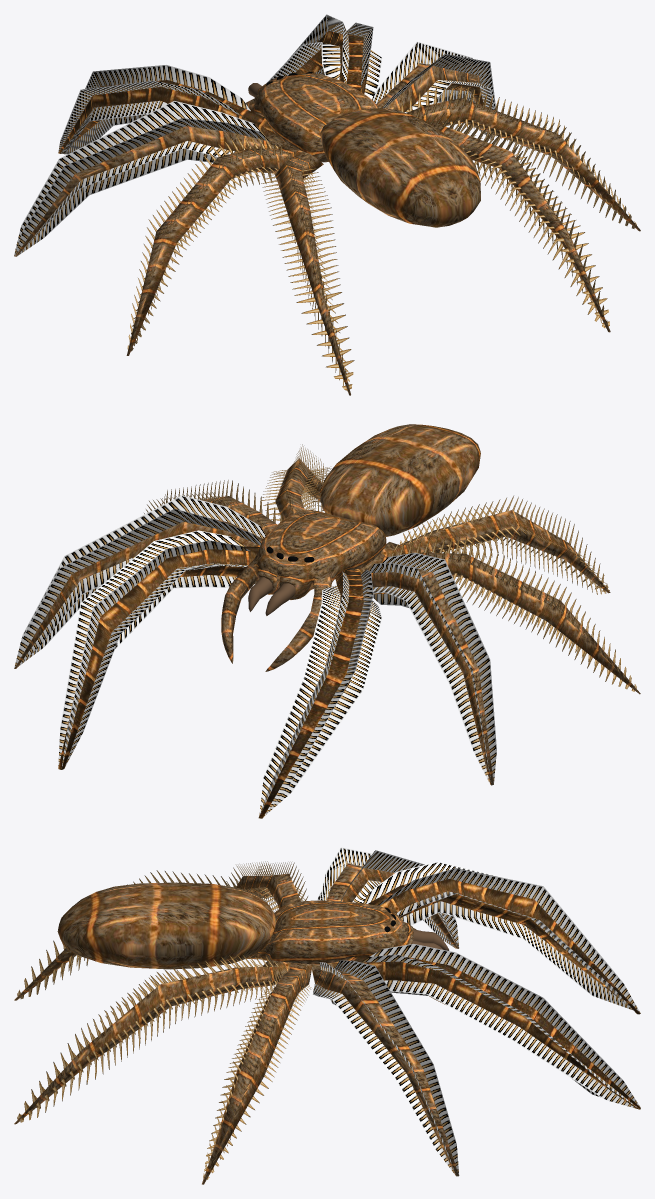
Rendered from Only_Spider_with_Animations_Export.obj.
The picture shows the model from 3 angles, top to bottom: view 1: azimuth 30°, elevation 25°; view 2: azimuth 150°, elevation 25°; view 3: azimuth 270°, elevation 25°; orthographic projection. The views are drawn at different scales.
Parts seen in each view (by area): view 1: Spider_Spider.005, Spider_Fur_Spider; view 2: Spider_Spider.005, Spider_Fur_Spider, Spider_teeth_Spider.004; view 3: Spider_Spider.005, Spider_Fur_Spider, Spider_teeth_Spider.004.
Part boxes in pixels (x1,y1,x2,y2): Spider_Spider.005: [14, 31, 640, 395]; Spider_Fur_Spider: [14, 14, 636, 391]; Spider_Spider.005: [14, 424, 640, 818]; Spider_Fur_Spider: [14, 444, 636, 817]; Spider_teeth_Spider.004: [248, 577, 295, 615]; Spider_Spider.005: [14, 863, 640, 1184]; Spider_Fur_Spider: [17, 847, 640, 1179]; Spider_teeth_Spider.004: [412, 929, 449, 950].
Bounding box in the file's own units: 184 × 59.43 × 199.
